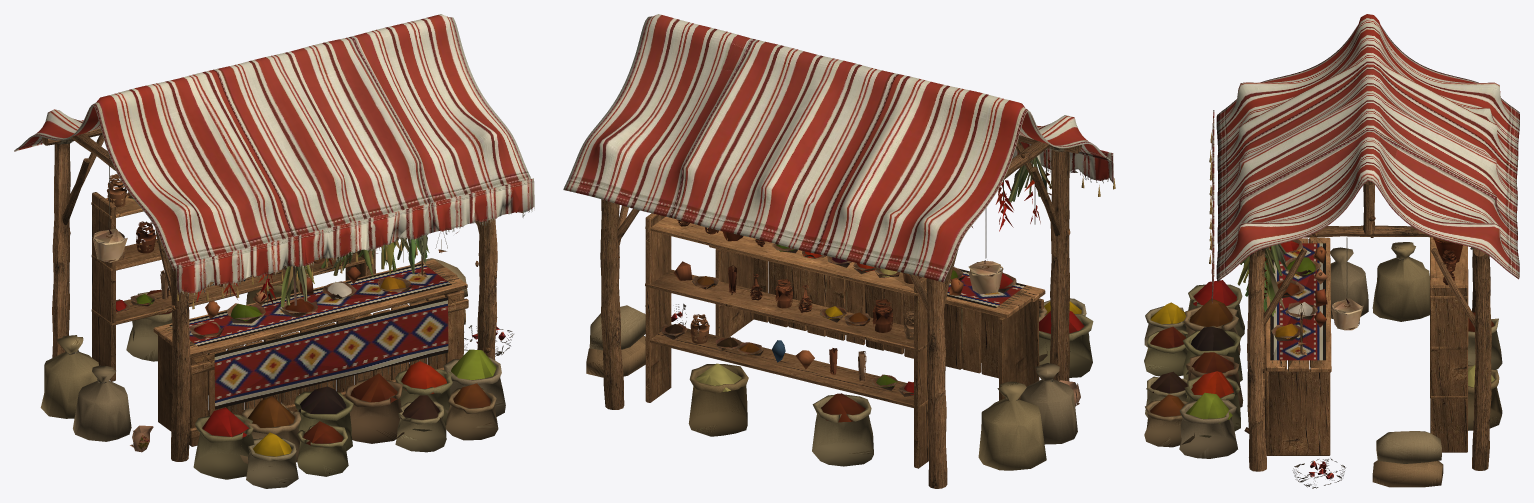
The model's file is village-kiosk-1-v5-lite.glb.
3 views of the same model, side by side, from view 1: azimuth 30°, elevation 25°; view 2: azimuth 150°, elevation 25°; view 3: azimuth 270°, elevation 25° (orthographic). The views are drawn at different scales.
Parts seen in each view (by area): view 1: K1_Cloth, K1_Props, K1_Sack, K1_Wood, K1_Bark; view 2: K1_Cloth, K1_Wood, K1_Sack, K1_Bark, K1_Props; view 3: K1_Cloth, K1_Sack, K1_Props, K1_Wood, K1_Bark.
Boxes of the visible parts, x1,y1,x2,y2 form: K1_Cloth: (14, 14, 534, 295); K1_Props: (57, 138, 513, 456); K1_Sack: (40, 258, 505, 488); K1_Wood: (91, 192, 468, 446); K1_Bark: (42, 128, 497, 461); K1_Cloth: (563, 14, 1113, 282); K1_Wood: (645, 213, 1045, 468); K1_Sack: (586, 275, 1093, 470); K1_Bark: (600, 135, 1081, 488); K1_Props: (644, 146, 1115, 422); K1_Cloth: (1211, 14, 1519, 302); K1_Sack: (1144, 242, 1502, 487); K1_Props: (1150, 132, 1494, 488); K1_Wood: (1263, 237, 1468, 455); K1_Bark: (1244, 181, 1491, 471).
Size of the model in its own units: 4.16 by 3.04 by 3.39.
5 materials, 5 textured.
